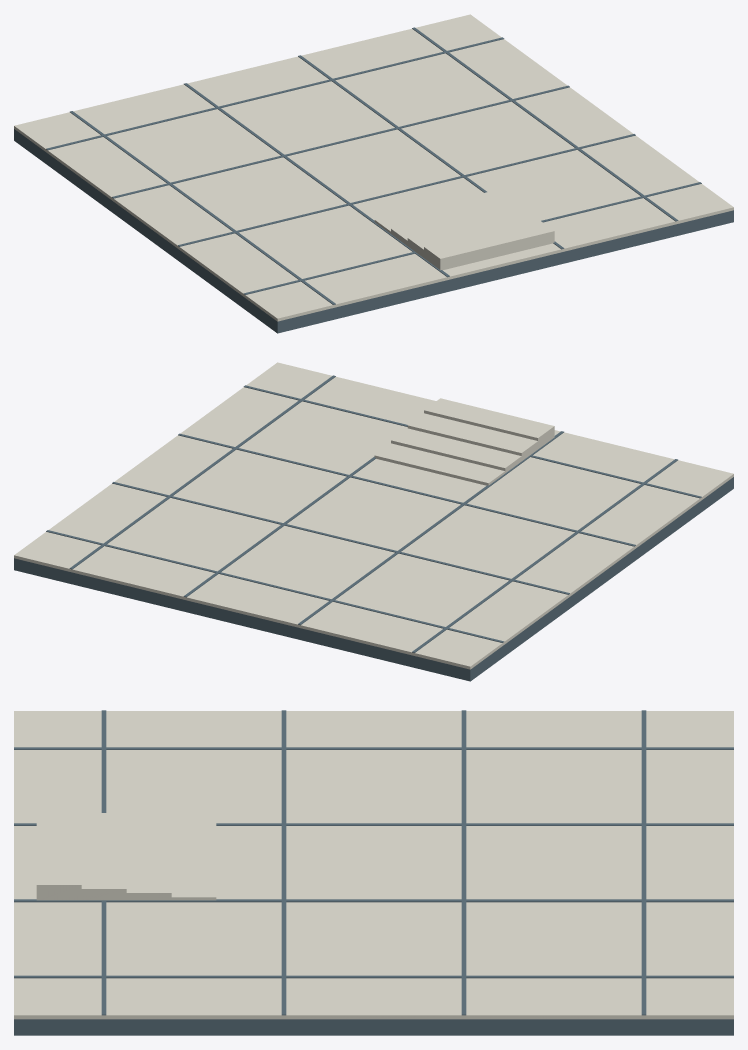
Rendered from voxel-city-districts-sidewalk-stepped-access-fb3ee3d9__24826.glb.
3 renders of one model, top to bottom at view 1: azimuth 30°, elevation 25°; view 2: azimuth 150°, elevation 25°; view 3: azimuth 270°, elevation 25°, orthographic. The views are drawn at different scales.
Parts seen in each view (by area): view 1: sidewalk-stepped-access-concrete, sidewalk-stepped-access-dark; view 2: sidewalk-stepped-access-concrete, sidewalk-stepped-access-dark; view 3: sidewalk-stepped-access-concrete, sidewalk-stepped-access-dark.
Part boxes in pixels (<box>): sidewalk-stepped-access-concrete: <box>14,14,733,321</box>; sidewalk-stepped-access-dark: <box>14,27,733,333</box>; sidewalk-stepped-access-concrete: <box>14,362,733,669</box>; sidewalk-stepped-access-dark: <box>14,375,733,681</box>; sidewalk-stepped-access-concrete: <box>14,711,733,1019</box>; sidewalk-stepped-access-dark: <box>14,710,733,1035</box>.
Bounding box in the file's own units: 8 × 0.4499 × 8.
